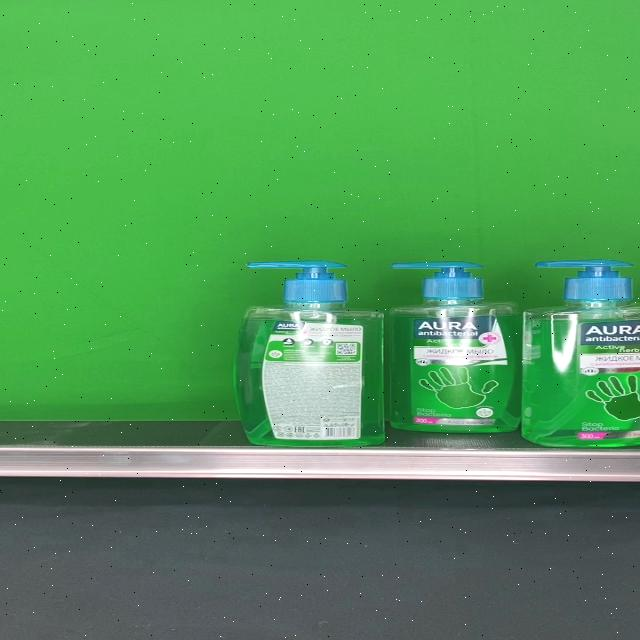Bottle: (233, 260, 384, 446), (387, 261, 522, 434), (523, 259, 640, 447)
Cap: (246, 260, 350, 304), (532, 259, 633, 301), (390, 261, 486, 301)
